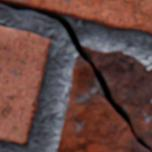brick: (0, 27, 51, 145), (0, 0, 151, 35)
broken_brick: (58, 56, 149, 151), (83, 47, 151, 148)
crack: (0, 2, 151, 151)
